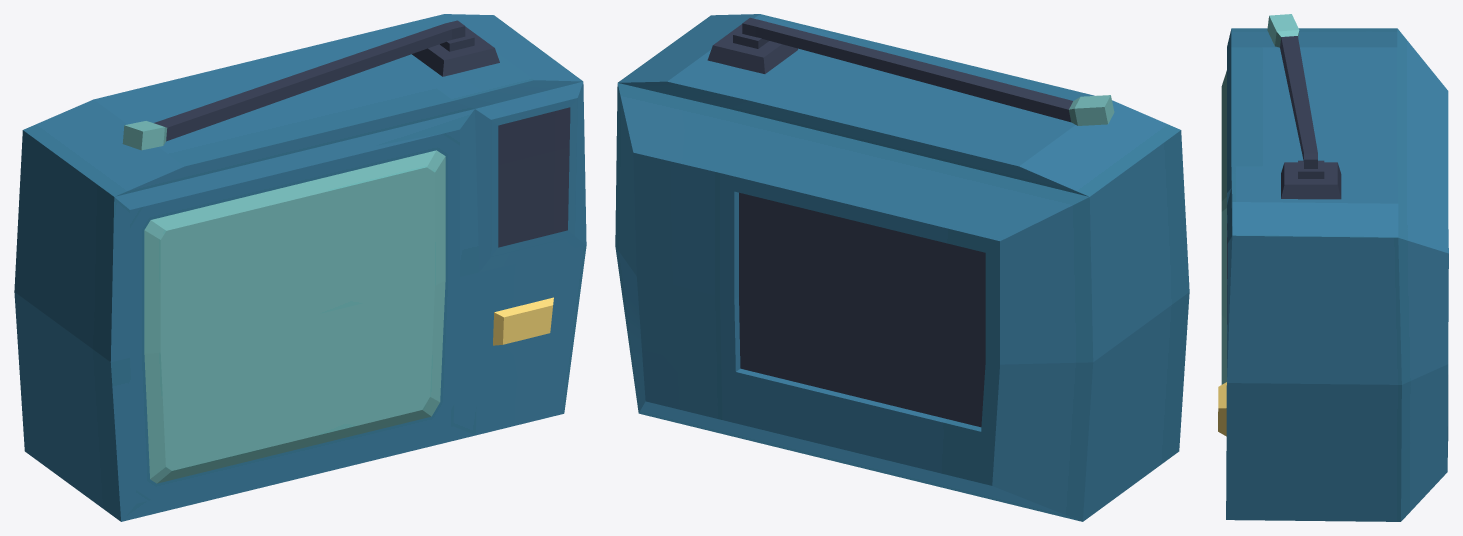
File: 022_telkkari.gltf
3 views of the same model, side by side, from view 1: azimuth 30°, elevation 25°; view 2: azimuth 150°, elevation 25°; view 3: azimuth 270°, elevation 25° (orthographic). The views are drawn at different scales.
Parts seen in each view (by area): view 1: telkkari; view 2: telkkari; view 3: telkkari.
Boxes of the visible parts, box(x1,y1,x2,y2) form: telkkari: box(14, 14, 586, 521); telkkari: box(615, 14, 1189, 521); telkkari: box(1218, 14, 1448, 521).
Size of the model in its own units: 1.45 by 1.07 by 0.6664.
1 material, 1 textured.
